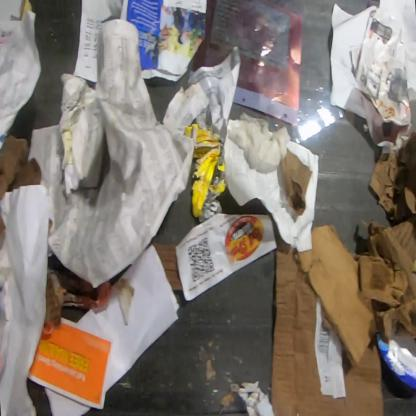cardboard: (270, 220, 385, 415), (349, 131, 415, 344), (293, 222, 379, 367), (348, 7, 414, 154), (184, 122, 228, 224), (0, 134, 42, 201), (376, 328, 415, 390), (148, 241, 183, 291), (229, 380, 275, 415), (0, 217, 5, 245)
soft_plastic: (191, 0, 346, 144), (224, 111, 289, 173)
